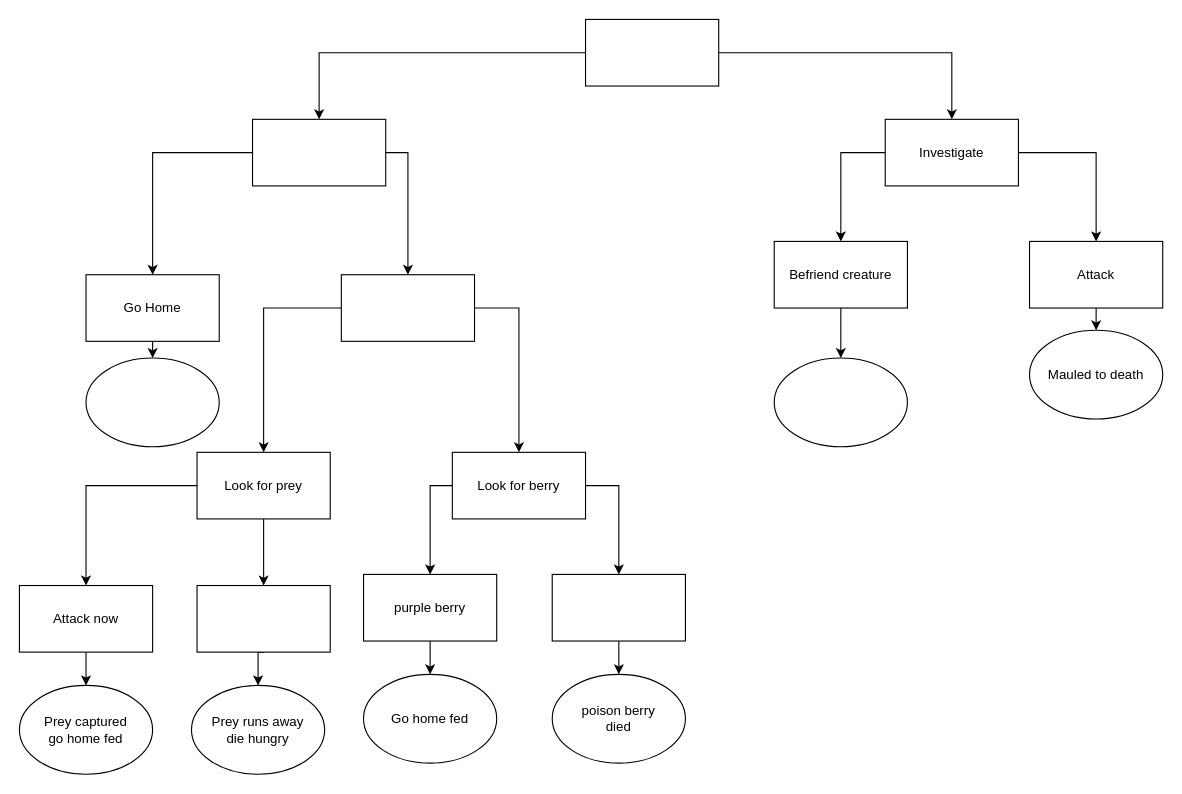
This 1182x794 diagram has some shape labels left out. The centre of each missing label's shape, as x and y in pixels:
"Enjoys a peace day in cave" belongs at pixel 152 402.
"Go deeper into the woods" belongs at pixel 407 307.
"In woods and hear a twig snap" belongs at pixel 651 52.
"Run away" belongs at pixel 318 152.
"Shares food Go home fed with friend" belongs at pixel 840 402.
"teal berry" belongs at pixel 618 607.
"Wait" belongs at pixel 263 618.
